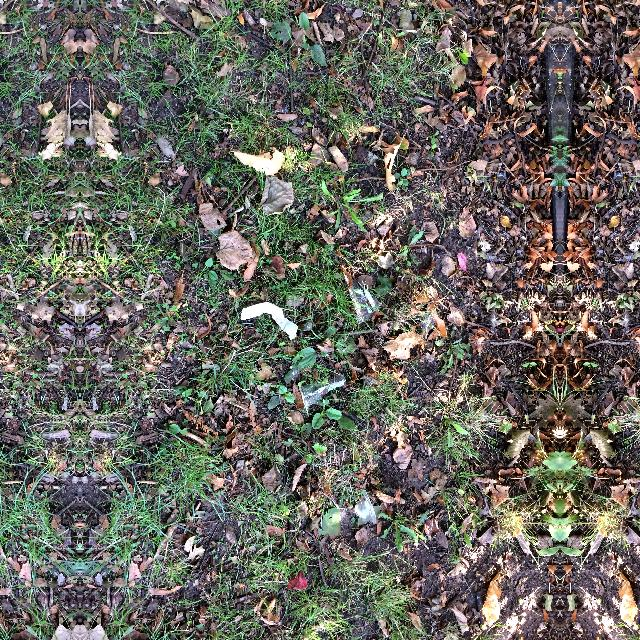Plastic: (296, 372, 352, 418), (239, 301, 301, 341), (344, 276, 386, 328), (350, 486, 382, 528)
